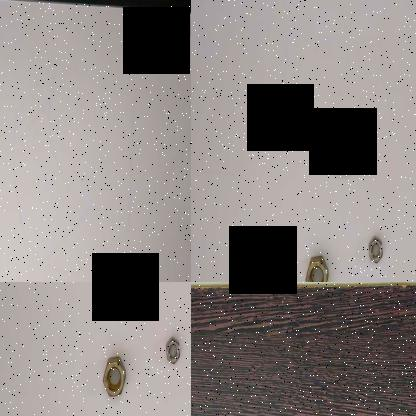NUTS: (96, 349, 132, 406), (160, 331, 188, 371), (330, 132, 355, 176), (302, 253, 330, 282), (366, 231, 384, 266)
